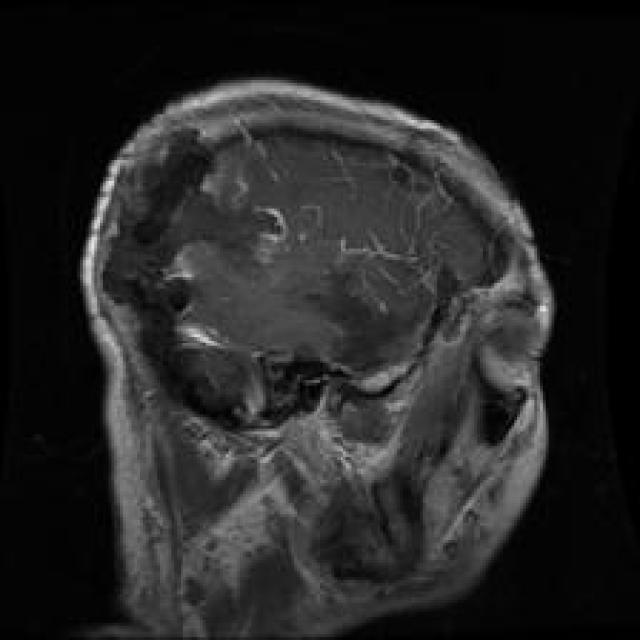glioma_tumor: (93, 123, 284, 397)
